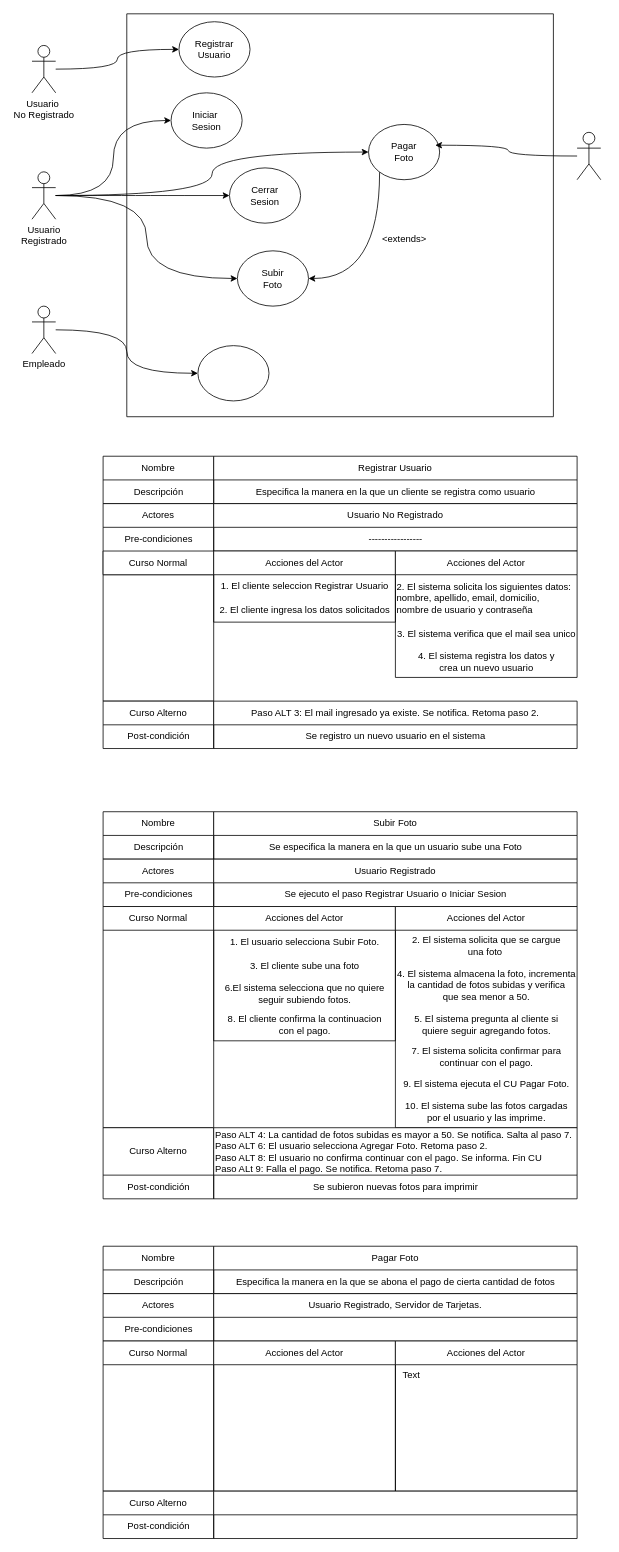
The diagram is 619 pixels wide and 1552 high, and some of its shapes have lost their labels. Here are the shapes that lost their labels. From the top down, the centre of each, then its label:
point (588, 156): Sistema del Banco
point (233, 373): Registrar Retiro
